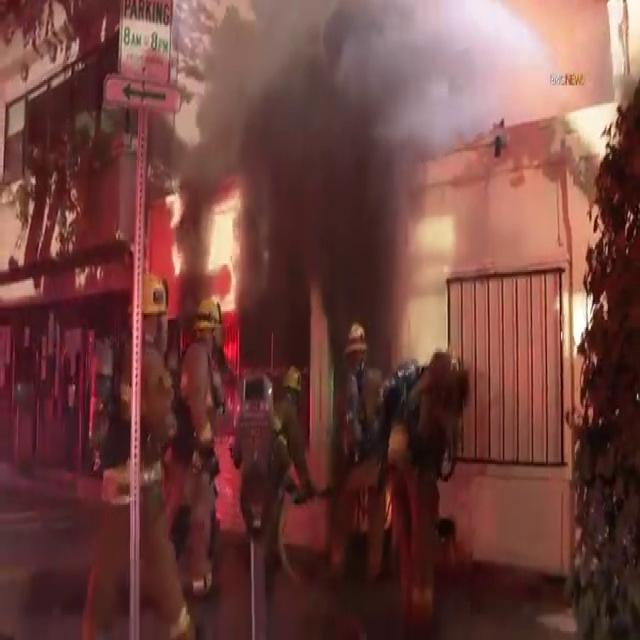Smoke: (158, 0, 444, 284)
